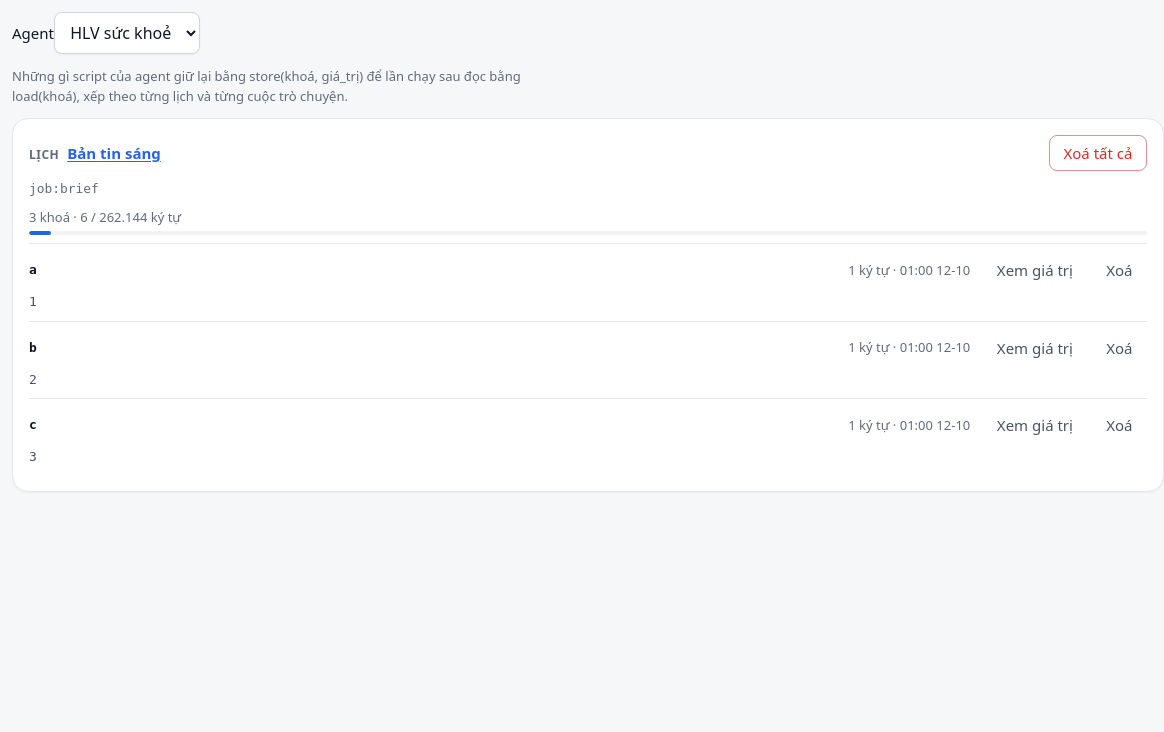
Test case: deleting a whole namespace › shows the server's own words for a refusal under the namespace, not in a row, and moves nothing
Click the button "Xoá tất cả" at (1098, 153), box [1049,135,1147,171]
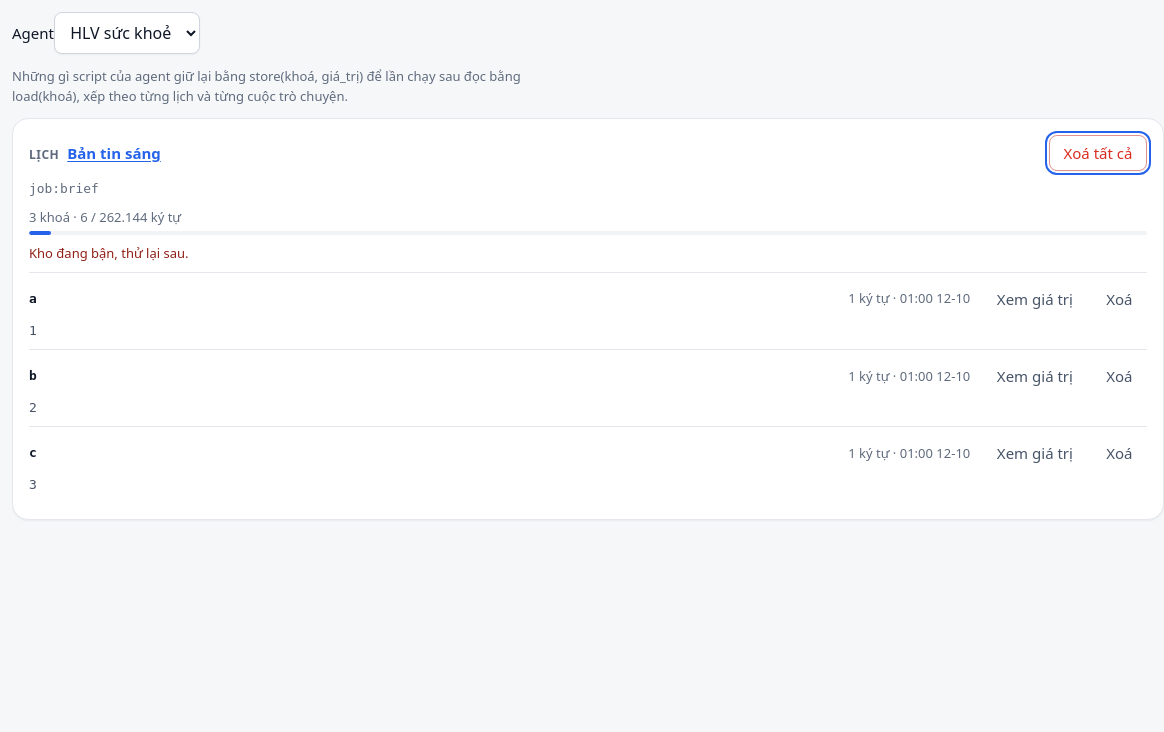
Expected: the element that starts with "Lịch" is shown, [12,118,1163,520]
Expected: the message reads "Kho đang bận, thử lại sau.", [29,244,188,262]
